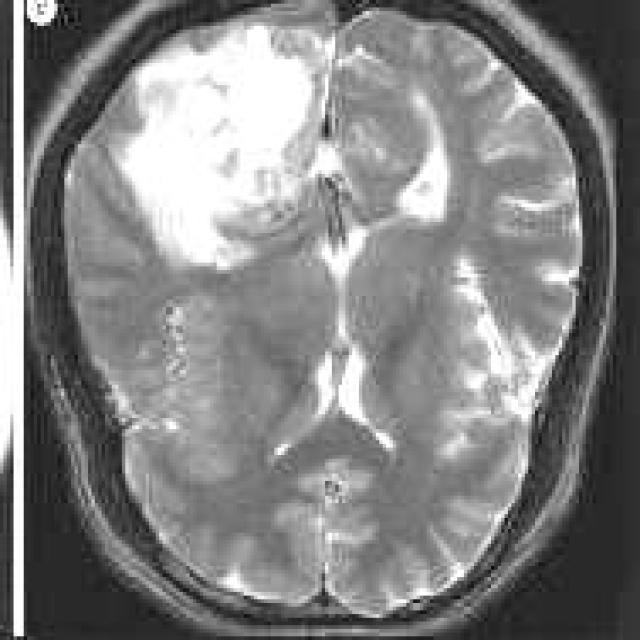Tumor-Cell: (126, 55, 336, 276)
